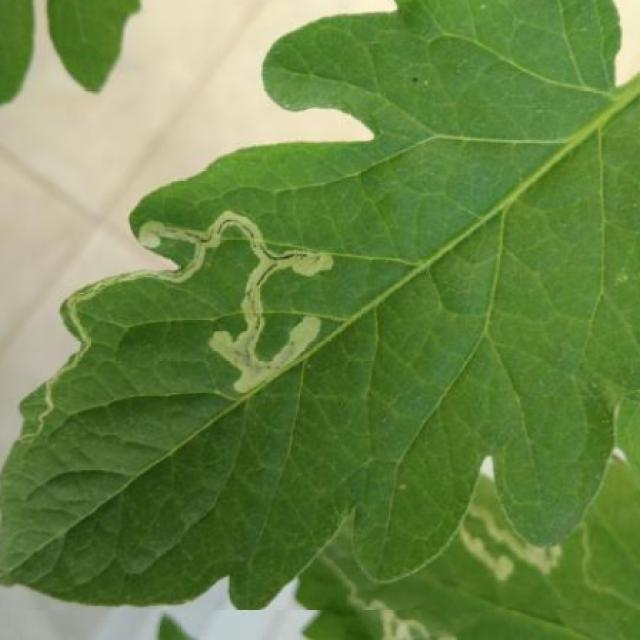Tuta absoluta: (135, 149, 368, 396)
